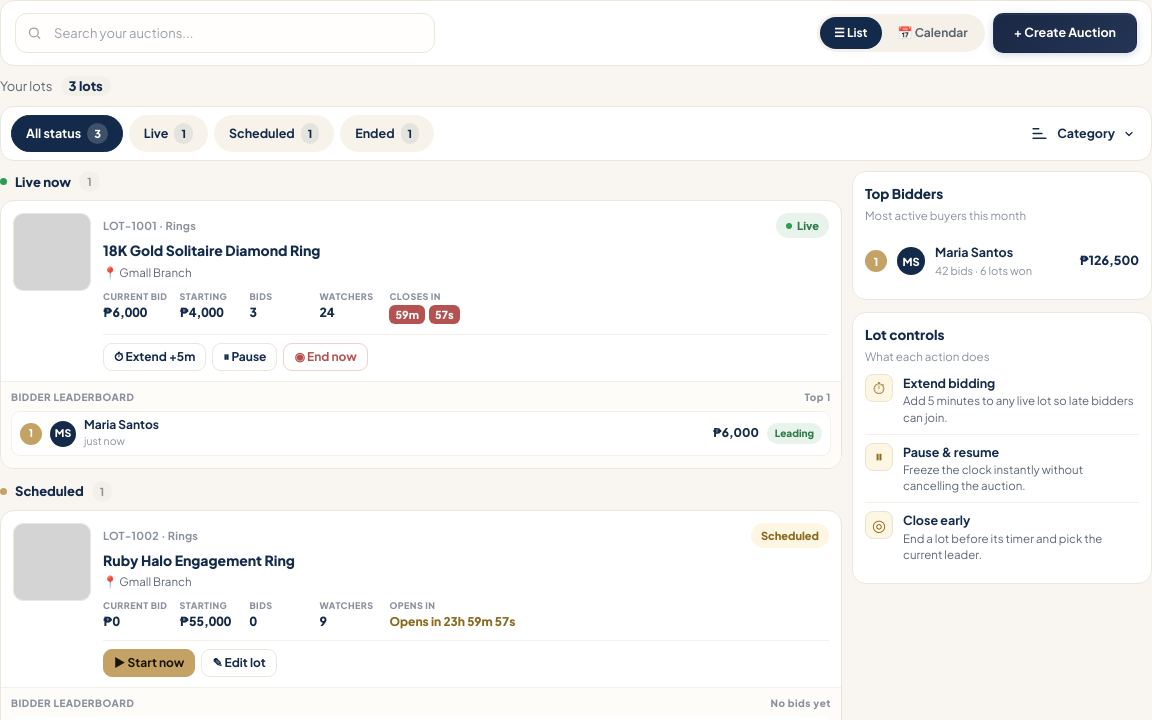
confirmation modal shown before ending
Expected: the text "18K Gold Solitaire Diamond Ring" is shown, [103,241,320,259]
Click the button "◉ End now" at (326, 357), box [283,343,368,371]
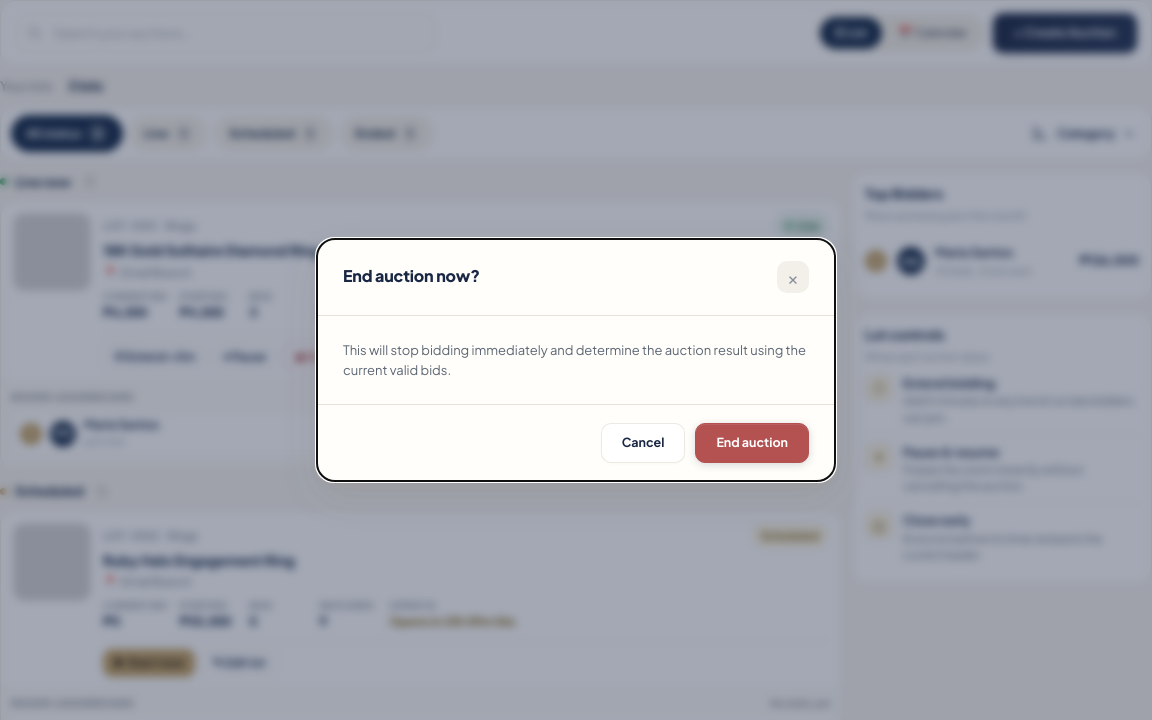
Expected: the heading "End auction now?" is shown, [343,264,480,289]
